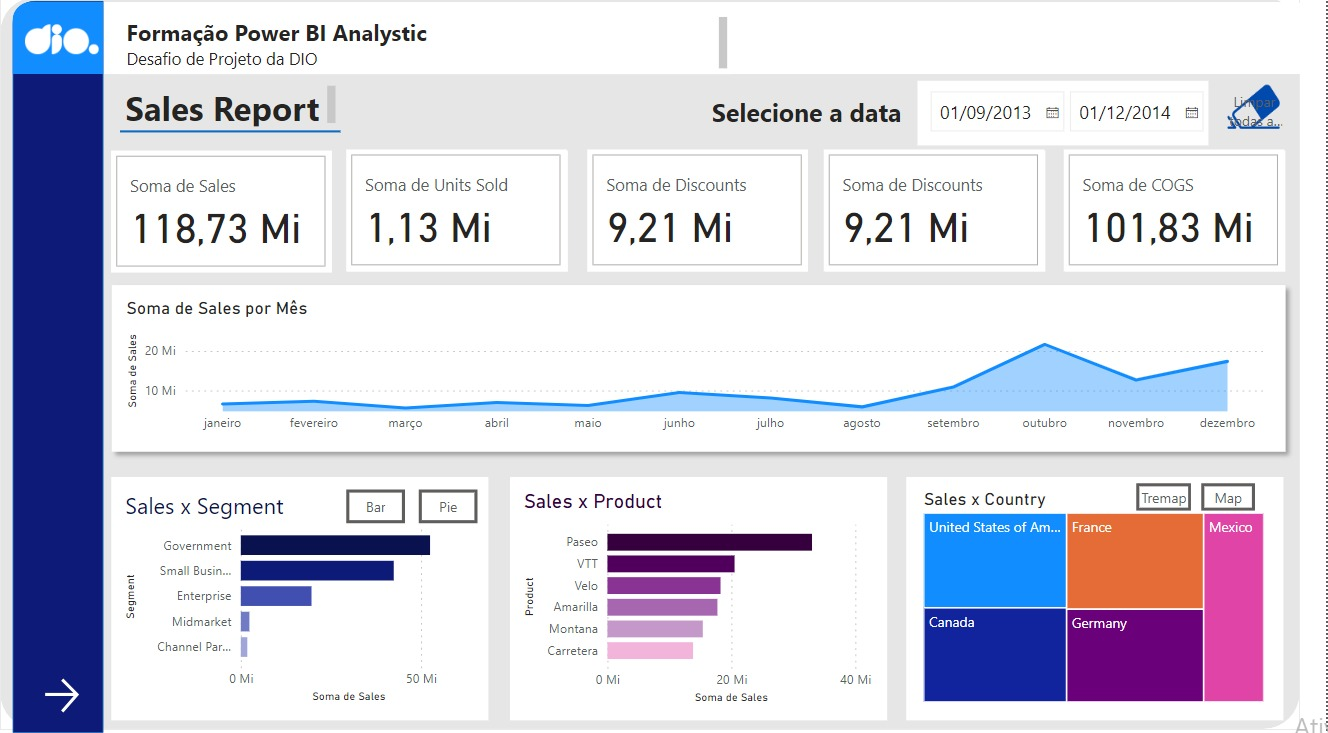

The page's visual inventory and layout, read from the dashboard file:
{"tool":"powerbi","page":{"name":"Página 1","canvas":[1280,720],"ordinal":0},"visuals":[{"type":"shape","box":[0,10.2,1254.5,706.4],"z":0},{"type":"image","title":"Botão_borracha","box":[1179.8,77.9,59.8,75.1],"z":0,"group":"g2"},{"type":"shape","box":[115.7,120.8,212.8,37.4],"z":0,"group":"g5"},{"type":"shape","box":[107.2,158.3,212.7,116.6],"z":0,"group":"g1"},{"type":"clusteredBarChart","title":"Sales x Segment","fields":{"Y":["Sum(financials. Sales)"],"Category":["financials.Segment"]},"box":[115.7,485.1,345.5,211.1],"z":0,"group":"g4"},{"type":"shape","box":[12.3,13.7,87.8,706.7],"z":1000},{"type":"textbox","box":[115.7,90.2,212.8,49.4],"z":1000,"group":"g5"},{"type":"slicer","fields":{"Values":["financials.Date"]},"box":[886.3,90.4,281,62.6],"z":1000,"group":"g2"},{"type":"shape","box":[335,158.3,212.7,116.6],"z":1000,"group":"g1"},{"type":"treemap","title":"Sales x Country","fields":{"Group":["financials.Country"],"Values":["Sum(financials. Sales)"]},"box":[886.7,483.8,338.1,211.5],"z":1000,"group":"g3"},{"type":"actionButton","title":"Botão - map","box":[1159.7,479.1,51.9,26.5],"z":1250,"group":"g3"},{"type":"actionButton","title":"Botão - pie","box":[404.1,485,56.7,32.6],"z":1250,"group":"g4"},{"type":"actionButton","title":"Botão - tremap","box":[1096.9,479,53.1,26.5],"z":1500,"group":"g3"},{"type":"actionButton","title":"Botão - bar","box":[334.1,485,56.7,32.6],"z":1500,"group":"g4"},{"type":"shape","box":[12.5,13.9,87.7,69.6],"z":2000},{"type":"textbox","box":[673.4,100.2,201.7,52.9],"z":2000,"group":"g2"},{"type":"shape","box":[566.9,158.3,212.7,116.6],"z":2000,"group":"g1"},{"type":"image","box":[19.2,9.6,81,81],"z":3000},{"type":"actionButton","box":[1179.8,90.4,61.2,57],"z":3000,"group":"g2"},{"type":"shape","box":[796.1,158.3,212.7,116.6],"z":3000,"group":"g1"},{"type":"shape","box":[100.2,13.9,1165.9,69.6],"z":4000},{"type":"shape","box":[1028,158.3,212.7,116.6],"z":4000,"group":"g1"},{"type":"textbox","box":[116.9,23.7,589.9,59.8],"z":5000},{"type":"cardVisual","fields":{"Data":["Sum(financials.Discounts)"]},"box":[566.8,156.6,212.8,117.4],"z":5000,"group":"g1"},{"type":"group","id":"g1","title":"Cartões","box":[107.2,156.6,1133.5,119.1],"z":6000},{"type":"cardVisual","fields":{"Data":["Sum(financials. Sales)"]},"box":[107.2,158.3,212.8,117.4],"z":6000,"group":"g1"},{"type":"cardVisual","fields":{"Data":["Sum(financials.Discounts)"]},"box":[794.9,156.6,212.8,117.4],"z":7000,"group":"g1"},{"type":"shape","box":[98.7,279.1,1150.6,178.7],"z":7000},{"type":"cardVisual","fields":{"Data":["Sum(financials.Units Sold)"]},"box":[333.6,156.6,212.8,117.4],"z":8000,"group":"g1"},{"type":"shape","box":[107.2,473.2,364.3,234.9],"z":8000},{"type":"cardVisual","fields":{"Data":["Sum(financials.COGS)"]},"box":[1026.3,156.6,212.8,117.4],"z":9000,"group":"g1"},{"type":"shape","box":[491.9,473.2,364.3,234.9],"z":9000},{"type":"shape","box":[874.9,473.2,364.3,234.9],"z":10000},{"type":"areaChart","fields":{"Category":["financials.Date.Variation.Hierarquia de datas.Mês"],"Y":["Sum(financials. Sales)"]},"box":[117.4,299.6,1108.1,139.6],"z":11000},{"type":"clusteredBarChart","title":"Sales x Product","fields":{"Y":["Sum(financials. Sales)"],"Category":["financials.Product"]},"box":[500.9,485.6,345,211.5],"z":12000},{"type":"group","id":"g2","title":"Filtro por data","box":[673.4,77.9,567.7,75.1],"z":13000},{"type":"group","id":"g3","title":"Sales x Country","box":[886.7,479,343.7,216.3],"z":14000},{"type":"group","id":"g4","title":"Sales x Segment","box":[115.7,485,345.5,212.1],"z":15000},{"type":"group","id":"g5","title":"Title Report","box":[37.2,90.2,291.3,614.7],"z":16000},{"type":"actionButton","box":[37.2,661.7,48.7,43.1],"z":16001,"group":"g5"}]}

Visuals, with their boxes on the page's 1280x720 design canvas (x1, y1, x2, y2). These are canvas units, not pixel positions in the 1328x733 screenshot, which may show the page scaled, cropped or inside an application window:
shape: 0, 10, 1254, 717
"Botão_borracha" image: 1180, 78, 1240, 153
shape: 116, 121, 328, 158
shape: 107, 158, 320, 275
"Sales x Segment" clusteredBarChart: 116, 485, 461, 696
shape: 12, 14, 100, 720
textbox: 116, 90, 328, 140
slicer - financials.Date: 886, 90, 1167, 153
shape: 335, 158, 548, 275
"Sales x Country" treemap: 887, 484, 1225, 695
"Botão - map" actionButton: 1160, 479, 1212, 506
"Botão - pie" actionButton: 404, 485, 461, 518
"Botão - tremap" actionButton: 1097, 479, 1150, 506
"Botão - bar" actionButton: 334, 485, 391, 518
shape: 12, 14, 100, 84
textbox: 673, 100, 875, 153
shape: 567, 158, 780, 275
image: 19, 10, 100, 91
actionButton: 1180, 90, 1241, 147
shape: 796, 158, 1009, 275
shape: 100, 14, 1266, 84
shape: 1028, 158, 1241, 275
textbox: 117, 24, 707, 84
cardVisual - Sum(financials.Discounts): 567, 157, 780, 274
"Cartões" group: 107, 157, 1241, 276
cardVisual - Sum(financials. Sales): 107, 158, 320, 276
cardVisual - Sum(financials.Discounts): 795, 157, 1008, 274
shape: 99, 279, 1249, 458
cardVisual - Sum(financials.Units Sold): 334, 157, 546, 274
shape: 107, 473, 472, 708
cardVisual - Sum(financials.COGS): 1026, 157, 1239, 274
shape: 492, 473, 856, 708
shape: 875, 473, 1239, 708
areaChart - financials.Date.Variation.Hierarquia de datas.Mês x Sum(financials. Sales): 117, 300, 1226, 439
"Sales x Product" clusteredBarChart: 501, 486, 846, 697
"Filtro por data" group: 673, 78, 1241, 153
"Sales x Country" group: 887, 479, 1230, 695
"Sales x Segment" group: 116, 485, 461, 697
"Title Report" group: 37, 90, 328, 705
actionButton: 37, 662, 86, 705
